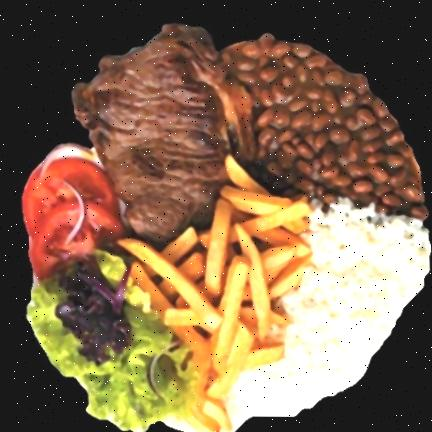beans: (223, 34, 428, 218)
meat: (72, 23, 255, 245)
potato: (119, 155, 312, 398)
rice: (226, 199, 431, 429)
salad: (27, 250, 200, 431)
tomato: (23, 157, 124, 279)
